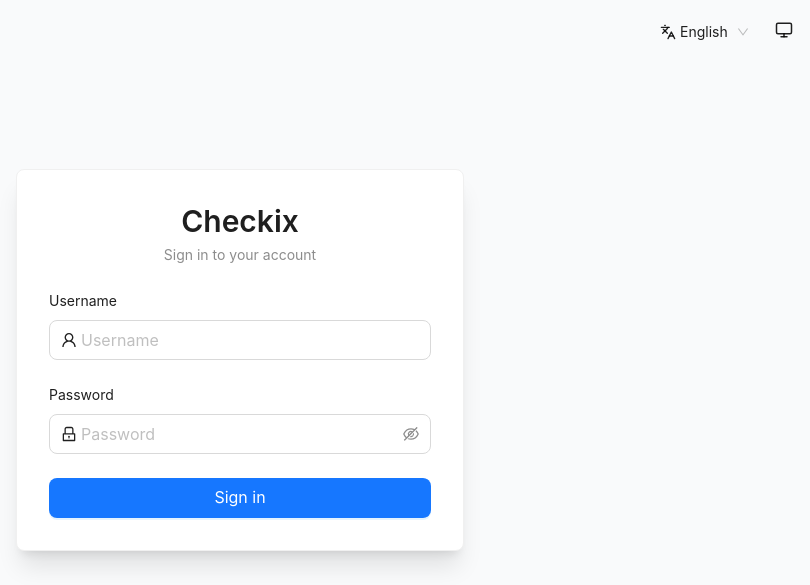
it: LoginPage › updates login copy and persists language before authentication
Press the mouse on the dropdown labelled "English" at coordinates (714, 32), box top-left (680, 17), bottom-right (748, 47)
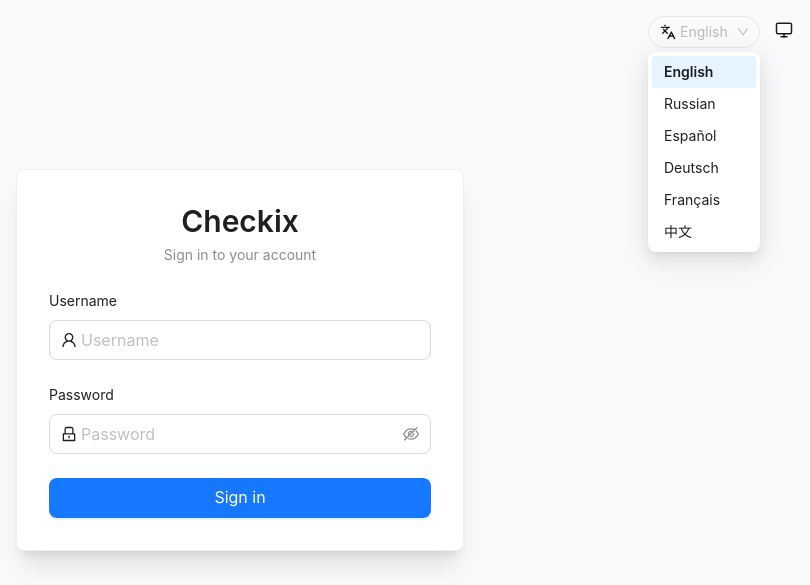
Click the text "Español" at coordinates (690, 136), box top-left (664, 127), bottom-right (716, 144)
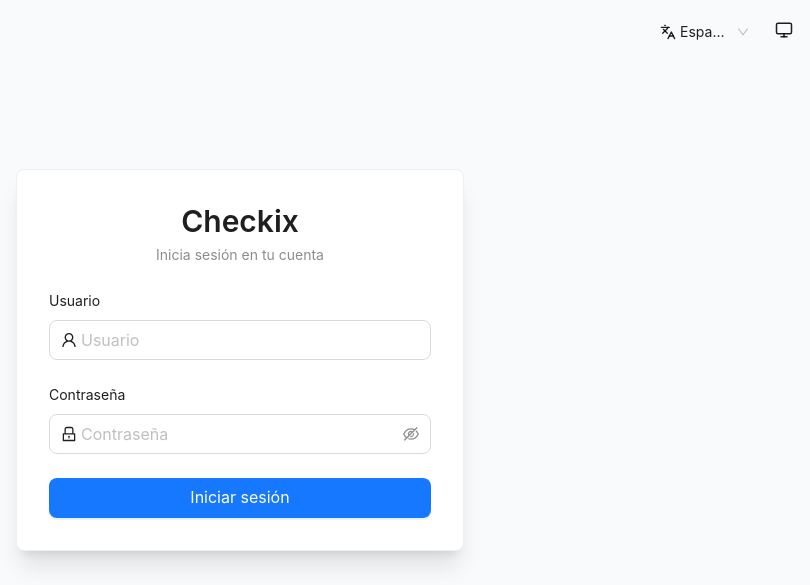
Check: the text "Inicia sesión en tu cuenta" is shown, box top-left (156, 246), bottom-right (324, 263)
Check: the button "Iniciar sesión" is shown, box top-left (49, 478), bottom-right (431, 518)
